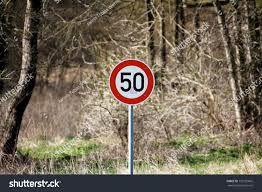Speed_limit_50km: (109, 59, 154, 105)
